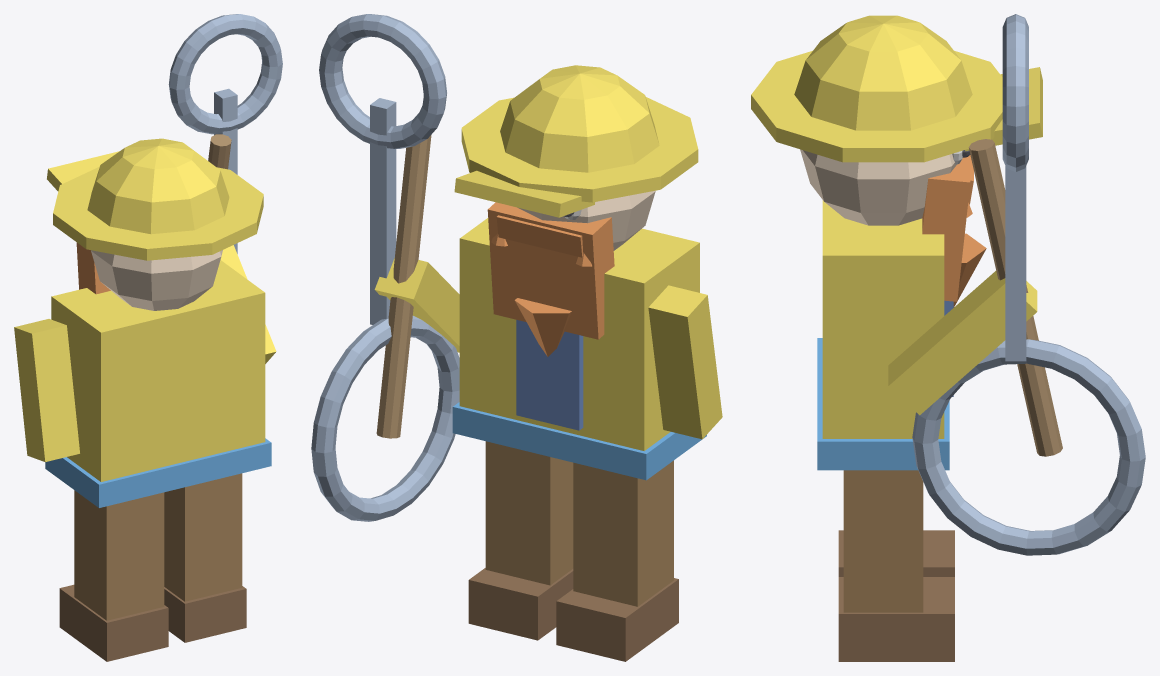
File: fisherman.glb
3 views of the same model, side by side, from view 1: azimuth 30°, elevation 25°; view 2: azimuth 150°, elevation 25°; view 3: azimuth 270°, elevation 25° (orthographic). The views are drawn at different scales.
Parts seen in each view (by area): view 1: fisherman; view 2: fisherman; view 3: fisherman.
Boxes of the visible parts, bbox=[...] form: fisherman: bbox=[14, 14, 282, 661]; fisherman: bbox=[311, 14, 722, 661]; fisherman: bbox=[751, 14, 1145, 661].
Size of the model in its own units: 1.59 by 2.8 by 1.49.
